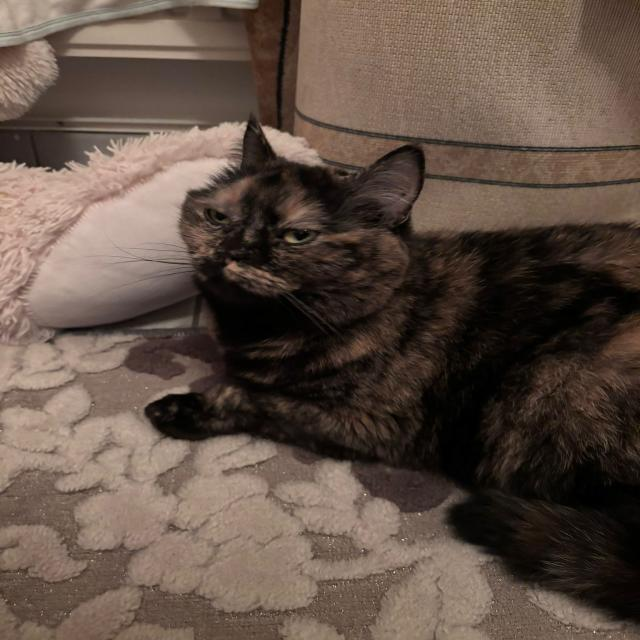authorized: (116, 112, 639, 628)
